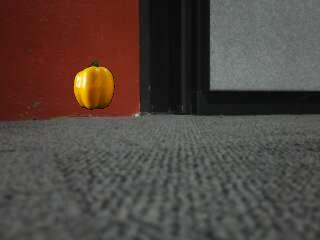Capsicum: (72, 60, 116, 112)
